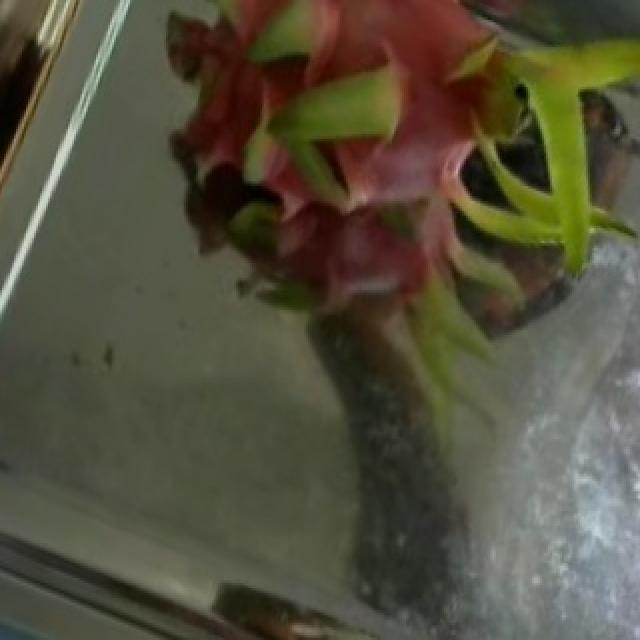fruit: (224, 2, 640, 407)
